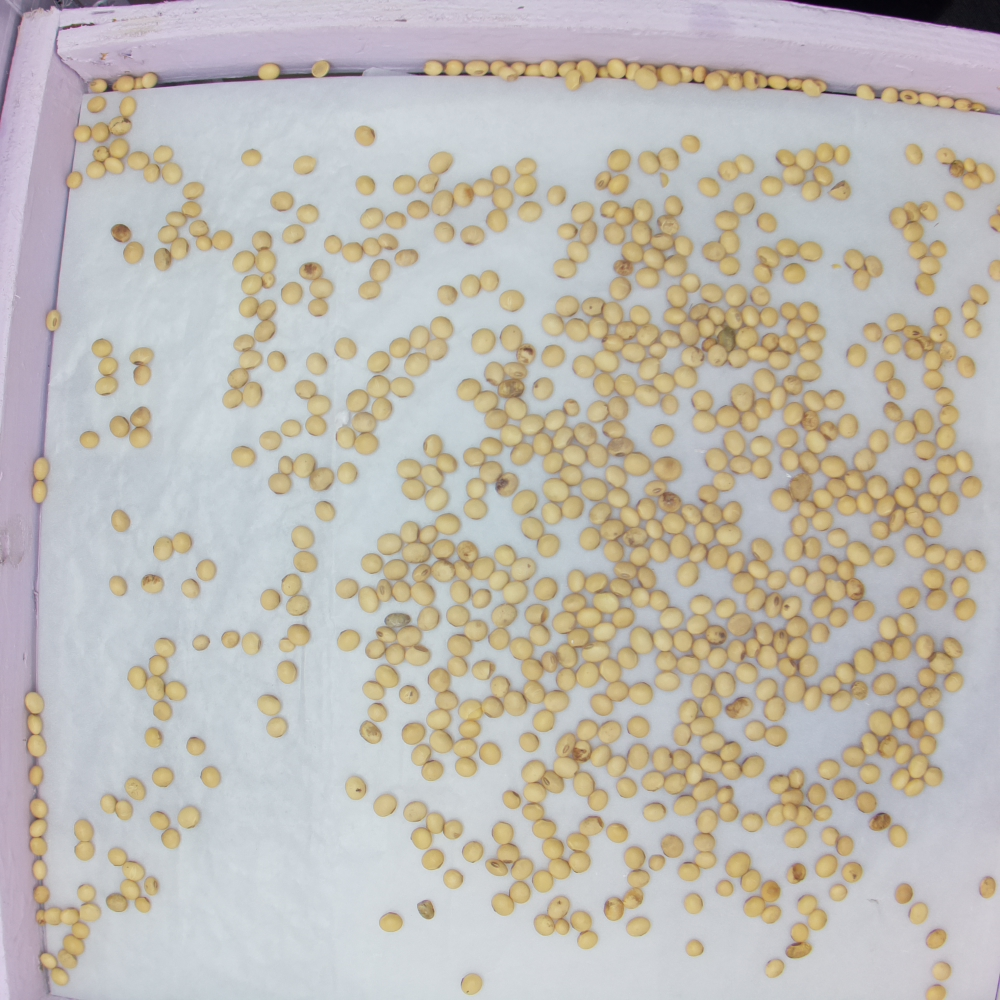soya: (470, 329, 495, 363), (581, 477, 608, 501), (542, 479, 570, 502), (630, 626, 653, 654), (731, 383, 753, 412), (726, 853, 751, 878), (511, 558, 537, 582), (655, 456, 681, 480), (869, 710, 892, 737), (691, 779, 719, 801), (456, 377, 480, 402), (410, 582, 435, 606), (512, 490, 537, 514), (293, 453, 316, 479), (624, 453, 650, 476), (912, 408, 935, 434), (404, 353, 429, 376), (492, 604, 517, 627), (472, 557, 495, 582), (595, 349, 620, 372), (659, 607, 684, 630), (847, 541, 870, 566), (311, 466, 333, 492), (582, 642, 610, 662), (536, 534, 560, 557), (541, 345, 565, 368), (291, 525, 314, 549), (677, 563, 700, 587), (599, 660, 623, 683), (630, 683, 654, 706), (428, 151, 453, 173), (500, 325, 522, 350), (474, 391, 499, 413), (447, 635, 472, 657), (257, 695, 282, 717), (716, 524, 742, 545), (510, 858, 533, 881), (289, 623, 312, 646), (608, 149, 631, 172), (705, 448, 728, 471), (742, 756, 765, 779), (661, 834, 684, 857), (824, 578, 847, 601), (428, 668, 450, 692), (231, 251, 255, 273), (294, 551, 318, 573), (556, 644, 578, 668), (552, 612, 576, 634), (431, 190, 453, 214), (610, 277, 632, 301), (732, 571, 754, 595), (728, 614, 752, 636), (520, 760, 545, 781), (544, 690, 569, 711), (724, 430, 745, 455), (624, 846, 645, 871), (854, 649, 875, 674), (868, 429, 889, 454), (359, 587, 378, 614), (178, 805, 200, 828), (410, 827, 432, 850), (479, 742, 501, 765), (376, 666, 399, 688), (360, 207, 383, 229), (426, 487, 448, 510), (465, 620, 488, 642), (417, 608, 439, 631), (430, 730, 452, 753), (504, 581, 527, 603), (510, 443, 532, 466), (505, 398, 528, 420), (334, 337, 356, 360), (306, 353, 328, 376), (534, 578, 557, 600), (562, 497, 584, 520), (565, 319, 588, 341), (628, 716, 650, 739), (717, 405, 739, 428), (816, 855, 838, 878), (898, 587, 921, 609), (874, 674, 897, 696), (853, 449, 875, 472), (377, 534, 401, 555), (354, 434, 378, 455), (346, 776, 367, 800), (510, 639, 534, 660), (231, 446, 255, 467), (577, 663, 598, 687), (636, 267, 660, 288), (754, 368, 775, 392), (606, 488, 630, 509), (740, 869, 761, 893), (460, 226, 485, 246), (383, 559, 408, 579), (397, 626, 422, 646), (277, 660, 297, 685), (628, 745, 648, 770), (752, 537, 772, 562), (936, 425, 956, 450), (715, 672, 735, 697), (708, 544, 727, 570), (593, 593, 619, 612), (702, 693, 721, 719), (576, 608, 603, 626), (786, 677, 804, 704), (840, 414, 858, 441), (345, 389, 367, 411), (492, 822, 514, 844), (548, 897, 570, 919), (576, 719, 598, 741), (757, 245, 779, 267), (604, 466, 626, 488), (920, 686, 942, 708), (772, 489, 794, 511), (337, 630, 360, 651), (430, 317, 453, 338), (426, 339, 449, 360), (368, 375, 389, 398), (436, 513, 459, 534), (402, 724, 425, 745), (374, 795, 397, 816), (281, 282, 302, 305), (554, 757, 577, 778), (556, 668, 577, 691), (486, 209, 507, 232), (519, 201, 542, 222), (665, 255, 688, 276), (734, 192, 755, 215), (574, 423, 597, 444), (662, 512, 685, 533), (805, 431, 826, 454), (931, 652, 952, 675), (833, 779, 856, 800), (800, 451, 821, 474), (390, 378, 414, 398), (282, 225, 306, 245), (589, 695, 613, 715), (658, 147, 678, 171), (641, 772, 665, 792), (626, 918, 650, 938), (803, 687, 823, 711), (821, 457, 845, 477), (782, 263, 806, 283), (895, 419, 915, 443), (309, 278, 334, 297), (715, 211, 740, 230), (405, 647, 431, 665), (422, 850, 444, 871), (447, 606, 469, 627), (524, 681, 545, 703), (529, 625, 551, 646), (521, 518, 543, 539), (255, 249, 276, 271), (556, 734, 577, 756), (602, 302, 623, 324), (621, 241, 642, 263), (701, 284, 723, 305), (637, 325, 659, 346), (675, 367, 697, 388), (652, 424, 674, 445), (635, 384, 657, 405), (615, 375, 637, 396), (743, 721, 765, 742), (743, 896, 764, 918), (960, 476, 981, 498), (923, 568, 945, 589), (894, 486, 915, 508), (95, 376, 118, 396), (370, 259, 390, 282), (427, 710, 450, 730), (404, 802, 427, 822), (492, 895, 515, 915), (571, 851, 591, 874), (521, 415, 544, 435), (532, 377, 552, 400), (308, 395, 331, 415), (259, 431, 282, 451), (667, 285, 687, 308), (579, 528, 599, 551), (746, 588, 766, 611), (629, 588, 652, 608), (678, 700, 698, 723), (867, 476, 887, 499), (915, 635, 935, 658), (781, 597, 801, 620), (874, 361, 894, 384), (688, 718, 715, 735), (153, 536, 172, 560), (122, 861, 146, 880), (379, 913, 403, 932), (499, 290, 523, 309), (435, 691, 459, 710), (580, 816, 604, 835), (566, 569, 585, 593), (655, 672, 679, 691), (693, 674, 712, 698), (673, 796, 697, 815), (642, 802, 666, 821), (785, 401, 804, 425), (908, 754, 927, 778), (129, 347, 154, 365), (147, 676, 165, 701), (532, 820, 557, 838), (575, 773, 593, 798), (752, 456, 770, 481), (626, 870, 651, 888), (785, 537, 803, 562), (455, 181, 472, 207), (421, 465, 442, 486), (522, 659, 543, 680), (567, 242, 588, 263), (757, 213, 778, 234), (726, 285, 747, 306), (737, 327, 758, 348), (665, 774, 686, 795), (589, 504, 610, 525), (730, 455, 751, 476), (701, 753, 722, 774), (785, 827, 806, 848), (907, 903, 928, 924), (803, 391, 824, 412), (80, 902, 102, 922), (402, 480, 424, 500), (368, 351, 390, 371), (394, 175, 416, 195), (462, 841, 482, 863), (510, 881, 530, 903), (497, 844, 519, 864), (532, 871, 552, 893), (543, 838, 565, 858), (240, 274, 262, 294), (268, 474, 290, 494), (337, 462, 357, 484), (460, 974, 482, 994), (554, 426, 574, 448), (574, 355, 594, 377), (543, 314, 563, 336), (639, 152, 659, 174), (703, 242, 725, 262), (719, 231, 739, 253), (561, 465, 581, 487), (670, 535, 690, 557), (613, 608, 635, 628), (615, 778, 637, 798), (653, 630, 673, 652), (593, 374, 613, 396), (687, 614, 707, 636), (677, 655, 699, 675), (797, 895, 817, 917), (801, 341, 821, 363), (914, 440, 936, 460), (173, 531, 192, 554), (373, 397, 392, 420), (462, 274, 481, 297), (239, 149, 262, 168), (270, 192, 293, 211), (582, 297, 605, 316), (604, 222, 623, 245), (632, 222, 651, 245), (692, 412, 715, 431), (605, 682, 628, 701), (673, 723, 692, 746), (637, 498, 656, 521), (604, 898, 623, 921), (956, 598, 975, 621), (905, 534, 924, 557), (758, 645, 777, 668), (621, 344, 645, 362), (654, 748, 672, 772), (699, 734, 723, 752), (697, 809, 715, 833), (800, 243, 824, 261), (940, 491, 958, 515), (807, 571, 825, 595), (292, 156, 317, 173), (124, 242, 144, 263), (109, 416, 129, 437), (129, 428, 150, 448), (167, 681, 187, 702), (200, 766, 220, 787), (152, 767, 172, 788), (389, 338, 410, 358), (480, 270, 500, 291), (485, 409, 506, 429), (549, 859, 570, 879), (534, 711, 554, 732), (571, 912, 592, 932), (543, 453, 563, 474), (545, 410, 566, 430), (515, 176, 535, 197), (546, 185, 566, 206), (572, 202, 593, 222), (674, 236, 694, 257), (692, 391, 712, 412), (690, 593, 711, 613), (671, 750, 692, 770), (656, 652, 677, 672), (662, 329, 682, 350), (615, 561, 636, 581), (720, 742, 741, 762), (721, 761, 742, 781), (854, 601, 875, 621), (749, 286, 769, 307), (762, 175, 782, 196), (929, 473, 949, 494), (898, 687, 918, 708), (708, 648, 728, 669), (787, 616, 807, 637), (875, 546, 895, 567), (112, 510, 131, 532), (423, 435, 442, 457), (354, 126, 376, 145), (433, 539, 455, 558), (451, 581, 470, 603), (495, 544, 514, 566), (282, 575, 301, 597), (577, 930, 599, 949), (543, 771, 562, 793), (633, 199, 652, 221), (644, 247, 663, 269), (640, 358, 659, 380), (637, 566, 656, 588), (650, 540, 669, 562), (970, 283, 989, 305), (965, 550, 984, 572), (757, 679, 776, 701), (811, 624, 830, 646), (294, 380, 317, 398), (696, 521, 714, 544), (723, 500, 741, 523), (678, 863, 701, 881), (925, 711, 943, 734), (361, 554, 381, 574), (306, 416, 326, 436), (260, 589, 280, 609), (266, 718, 286, 738), (555, 259, 575, 279), (610, 174, 630, 194), (588, 400, 608, 420), (694, 832, 714, 852), (764, 958, 784, 978), (808, 910, 828, 930), (829, 528, 849, 548), (336, 427, 355, 448), (437, 286, 458, 305), (386, 644, 405, 665), (422, 760, 441, 781), (443, 870, 464, 889), (524, 783, 545, 802), (253, 230, 272, 251), (556, 297, 577, 316), (515, 157, 536, 176), (492, 188, 513, 207), (611, 579, 632, 598), (843, 747, 864, 766), (832, 691, 851, 712), (873, 641, 892, 662), (784, 165, 803, 186), (844, 249, 863, 270), (924, 370, 943, 391), (926, 544, 945, 565), (927, 589, 946, 610), (842, 862, 861, 883), (735, 663, 756, 682), (788, 638, 807, 659), (778, 657, 799, 676), (903, 467, 922, 488), (918, 493, 939, 512), (171, 238, 189, 260), (131, 406, 149, 428), (197, 559, 215, 581), (398, 460, 420, 478), (410, 326, 428, 348), (589, 317, 607, 339), (665, 195, 683, 217), (616, 322, 638, 340), (741, 304, 759, 326), (588, 445, 606, 467), (585, 574, 607, 592), (608, 757, 626, 779), (650, 590, 668, 612), (781, 450, 799, 472), (798, 363, 820, 381), (777, 239, 799, 257), (895, 883, 913, 905), (798, 655, 816, 677), (877, 497, 895, 519), (563, 594, 586, 611), (890, 824, 907, 847), (762, 726, 788, 741), (767, 592, 782, 618), (854, 268, 870, 292), (846, 577, 862, 601), (92, 338, 112, 357), (153, 702, 172, 722), (125, 779, 144, 799), (74, 842, 94, 861), (64, 936, 84, 955), (355, 175, 374, 195), (435, 222, 454, 242), (411, 745, 430, 765), (489, 629, 508, 649), (490, 571, 509, 591), (314, 501, 334, 520), (534, 915, 553, 935), (699, 177, 719, 196), (631, 305, 650, 325), (748, 560, 768, 579), (716, 599, 735, 619), (630, 547, 650, 566), (742, 813, 762, 832), (685, 894, 704, 914), (607, 824, 627, 843), (820, 760, 839, 780), (814, 511, 833, 531), (812, 489, 832, 508), (923, 517, 942, 537), (128, 667, 146, 688), (362, 681, 383, 699), (446, 658, 467, 676), (455, 758, 476, 776), (568, 833, 589, 851), (534, 434, 552, 455), (654, 374, 675, 392), (594, 623, 615, 641), (602, 522, 623, 540), (621, 507, 639, 528), (683, 504, 701, 525), (674, 631, 692, 652), (761, 906, 782, 924), (838, 496, 856, 517), (800, 302, 818, 323), (796, 149, 814, 170), (833, 144, 851, 165), (976, 163, 994, 184), (902, 223, 923, 241), (939, 406, 960, 424), (892, 708, 910, 729), (858, 792, 876, 813), (692, 639, 710, 660), (755, 623, 773, 644), (182, 182, 204, 199), (401, 522, 418, 544), (358, 281, 380, 298), (485, 859, 507, 876), (589, 789, 606, 811), (651, 234, 673, 251), (563, 448, 585, 465), (605, 541, 622, 563), (695, 852, 717, 869), (796, 805, 813, 827), (803, 180, 820, 202), (817, 143, 834, 165), (916, 273, 933, 295), (898, 613, 915, 635), (893, 769, 910, 791), (522, 804, 545, 820), (728, 552, 744, 575), (881, 617, 897, 640), (958, 355, 974, 378), (956, 450, 972, 473), (891, 507, 905, 533), (213, 231, 232, 250), (99, 357, 118, 376), (161, 829, 180, 848), (58, 949, 77, 968), (366, 640, 385, 659), (491, 165, 510, 184), (719, 161, 738, 180), (735, 155, 754, 174), (714, 472, 733, 491), (752, 437, 771, 456), (719, 803, 738, 822), (861, 764, 880, 783), (787, 319, 806, 338), (943, 637, 962, 656), (932, 962, 951, 981), (163, 163, 181, 183), (155, 638, 175, 656), (445, 820, 463, 840), (418, 174, 438, 192), (437, 454, 457, 472), (368, 703, 388, 721), (519, 733, 539, 751), (309, 299, 329, 317), (281, 419, 301, 437), (592, 746, 610, 766), (619, 648, 637, 668), (703, 503, 721, 523), (779, 428, 797, 448), (741, 412, 759, 432), (760, 307, 778, 327), (920, 256, 940, 274), (945, 673, 963, 693), (778, 336, 798, 354), (812, 598, 832, 616), (818, 557, 838, 575), (243, 634, 261, 654), (75, 820, 92, 841), (427, 813, 444, 834), (297, 205, 318, 222), (791, 923, 808, 944), (767, 805, 784, 826), (728, 641, 745, 662), (664, 309, 686, 325), (905, 143, 921, 165), (791, 566, 807, 588), (682, 322, 697, 345), (894, 636, 909, 659), (133, 366, 151, 385), (108, 848, 127, 866), (121, 880, 139, 899), (77, 884, 96, 902), (50, 968, 69, 986), (720, 257, 739, 275), (821, 676, 839, 695), (887, 378, 905, 397), (145, 727, 162, 747), (769, 571, 786, 591), (754, 399, 771, 419), (952, 577, 969, 597), (837, 836, 854, 856), (769, 352, 789, 369), (581, 221, 597, 242), (602, 335, 623, 351), (686, 764, 702, 785), (862, 734, 878, 755), (792, 515, 807, 537), (964, 319, 982, 337), (884, 402, 902, 420), (154, 145, 173, 162), (129, 152, 148, 169), (681, 275, 700, 292), (837, 664, 854, 683), (754, 264, 771, 283), (830, 608, 847, 627), (771, 387, 785, 410), (774, 630, 788, 653), (182, 202, 202, 218), (408, 201, 428, 217), (376, 627, 396, 643), (923, 768, 943, 784), (797, 501, 817, 517), (857, 493, 872, 514), (891, 207, 905, 229), (92, 123, 109, 141), (110, 140, 128, 157), (159, 226, 177, 243), (116, 801, 133, 819), (150, 812, 168, 829), (419, 526, 437, 543), (400, 686, 418, 703), (503, 791, 520, 809), (616, 207, 633, 225), (601, 201, 618, 219), (780, 302, 798, 319), (920, 736, 937, 754), (830, 884, 847, 902), (837, 561, 854, 579), (80, 431, 99, 447), (109, 576, 125, 595), (182, 579, 198, 598), (72, 922, 91, 938), (378, 234, 397, 250), (962, 173, 981, 189), (962, 300, 978, 319), (919, 668, 935, 687), (906, 779, 925, 795), (662, 394, 677, 414), (647, 519, 662, 539), (947, 550, 962, 570), (897, 745, 912, 765), (726, 307, 740, 328), (935, 306, 949, 327), (748, 346, 769, 360), (682, 136, 699, 153), (716, 786, 733, 803), (686, 940, 703, 957), (937, 147, 954, 164), (86, 162, 104, 178), (807, 325, 825, 341), (936, 388, 954, 404), (729, 351, 747, 367), (60, 907, 79, 922), (279, 457, 294, 476), (595, 171, 610, 190), (708, 306, 723, 325), (822, 828, 837, 847), (946, 191, 961, 210), (927, 985, 946, 1000), (475, 180, 495, 194), (134, 897, 151, 913), (67, 171, 82, 189), (105, 158, 123, 173), (145, 164, 160, 182), (190, 221, 208, 236), (689, 304, 708, 318), (646, 482, 666, 495), (700, 486, 716, 502), (873, 523, 889, 539), (74, 127, 91, 142), (101, 796, 116, 813), (167, 212, 185, 226), (197, 236, 212, 252), (649, 855, 664, 871), (145, 877, 158, 895), (699, 319, 712, 337), (93, 146, 108, 161), (783, 804, 795, 820)
